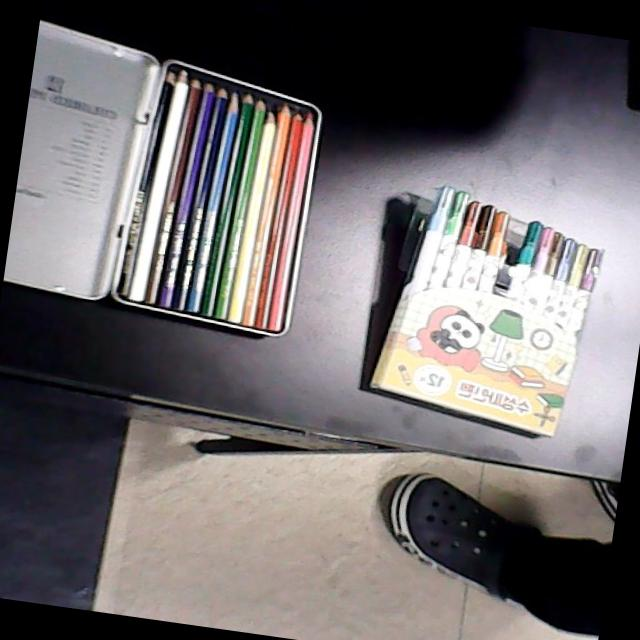color: (103, 53, 331, 346)
signpen: (355, 167, 613, 446)
